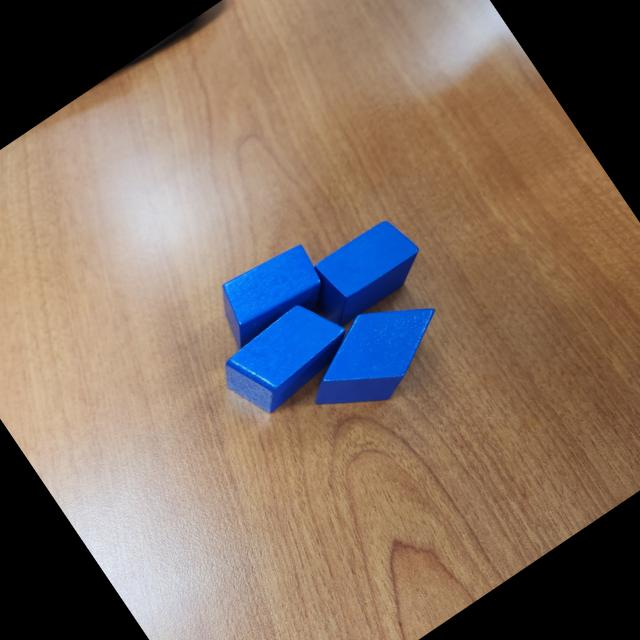blue: (288, 278, 463, 434), (211, 290, 364, 428), (291, 210, 433, 336), (203, 234, 335, 355)
